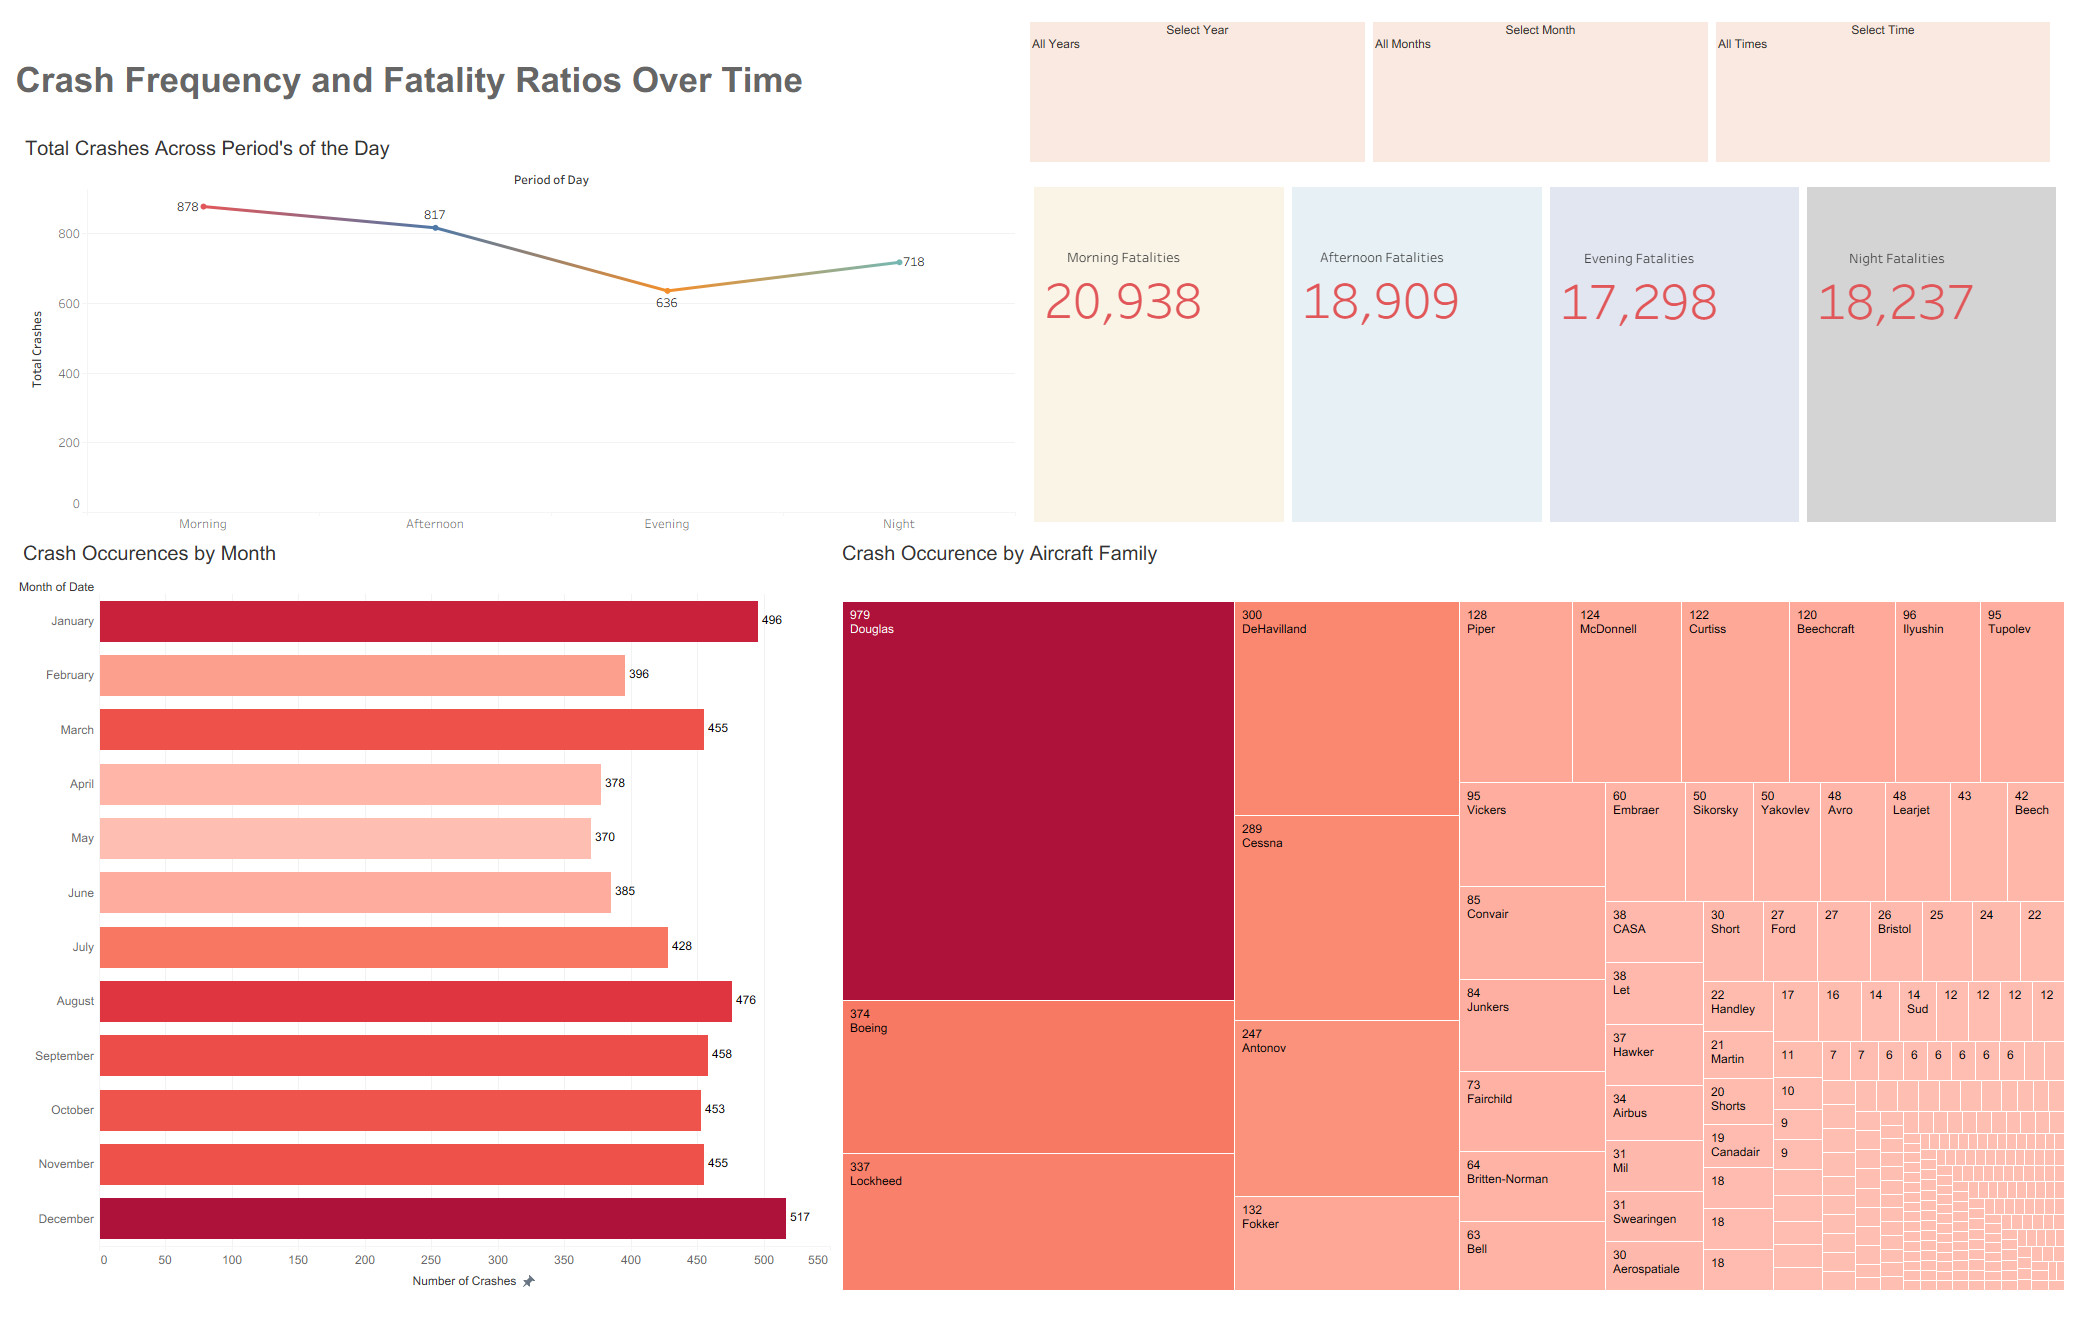

The dashboard page shown, as its layout file describes it:
{"tool":"tableau","page":{"name":"Q2 Dashboard","canvas":[1000,1000],"units":"permille","ordinal":1},"visuals":[{"type":"text","box":[6,4.6,534.6,112.5]},{"type":"parameter","param":"[Parameters].[Parameter 1]","box":[490.2,13.9,163.9,112.2]},{"type":"parameter","param":"[Parameters].[Select Year (copy)]","box":[654.1,13.9,163.9,112.2]},{"type":"parameter","param":"[Parameters].[Select Year (copy 2)]","box":[818,13.9,163.4,112.2]},{"type":"worksheet","title":"Q2.1","mark":"Line","rows":["Sheet 1_09DF39BCF28D42AB8A171AA09CCD639A"],"cols":["Calculation_496521908713144331"],"box":[8.2,96.4,478.6,311.1]},{"type":"worksheet","title":"Morning Fatalities","mark":"Automatic","box":[492.1,138.5,123.3,260.8]},{"type":"worksheet","title":"Afternoon Fatalities","mark":"Automatic","box":[615.4,138.5,123.3,260.8]},{"type":"worksheet","title":"Evening Fatalities","mark":"Automatic","box":[738.6,138.5,122.8,260.8]},{"type":"worksheet","title":"Night Fatalities","mark":"Automatic","box":[861.4,138.5,122.8,260.8]},{"type":"worksheet","title":"Q2.0","mark":"Bar","rows":["Calculation_496521908365524996"],"cols":["Sheet 1_09DF39BCF28D42AB8A171AA09CCD639A"],"box":[7.2,404.1,391.3,582.1]},{"type":"worksheet","title":"Q2.3","mark":"Automatic","box":[398.5,404.1,591.3,582.1]}]}

Visuals, with their boxes on the dashboard's canvas, which has no fixed pixel size, in thousandths of its width and height (x1, y1, x2, y2). These are canvas units, not pixel positions in the 2093x1317 screenshot, which may show the page scaled, cropped or inside an application window:
text: [6,5,541,117]
parameter: [490,14,654,126]
parameter: [654,14,818,126]
parameter: [818,14,981,126]
"Q2.1" worksheet (Line marks): [8,96,487,408]
"Morning Fatalities" worksheet: [492,138,615,399]
"Afternoon Fatalities" worksheet: [615,138,739,399]
"Evening Fatalities" worksheet: [739,138,861,399]
"Night Fatalities" worksheet: [861,138,984,399]
"Q2.0" worksheet (Bar marks): [7,404,398,986]
"Q2.3" worksheet: [398,404,990,986]
